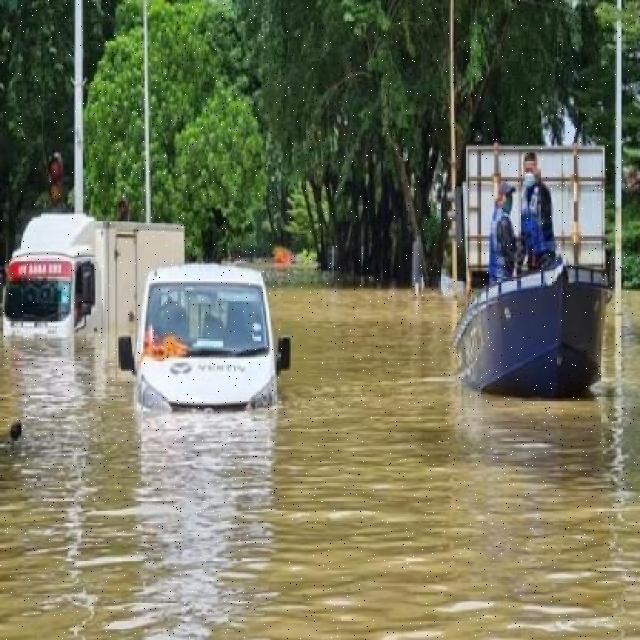rescuer: (516, 147, 565, 264), (486, 178, 514, 289)
